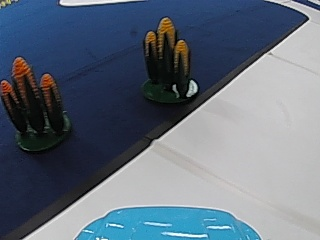corn: (2, 54, 71, 153), (139, 13, 197, 103)
